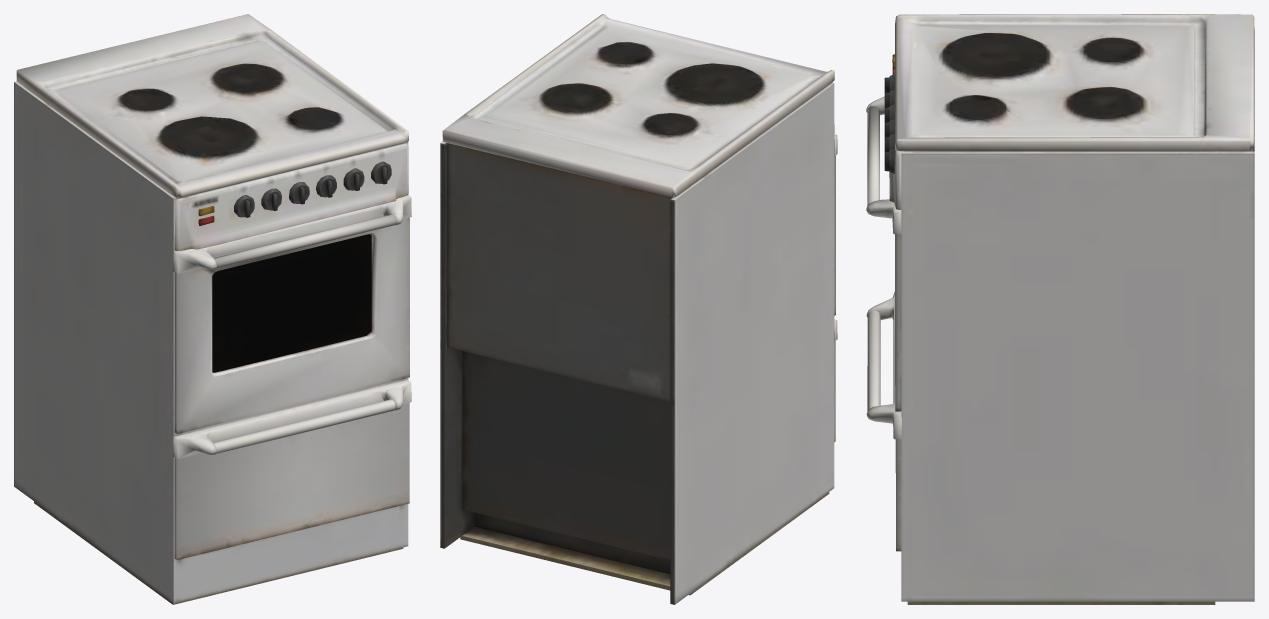
File: stove.glb
3 views of the same model, side by side, from view 1: azimuth 30°, elevation 25°; view 2: azimuth 150°, elevation 25°; view 3: azimuth 270°, elevation 25° (orthographic). The views are drawn at different scales.
Visible parts, largest first — view 1: stovetop, door_top; view 2: stovetop; view 3: stovetop.
Part boxes in pixels (x1=…): stovetop: x1=14, y1=14, x2=411, y2=604; door_top: x1=212, y1=234, x2=371, y2=372; stovetop: x1=440, y1=14, x2=837, y2=604; stovetop: x1=866, y1=14, x2=1254, y2=604.
Size of the model in its own units: 0.5026 by 0.8586 by 0.6476.
Materials: 2 (2 with a texture image).
